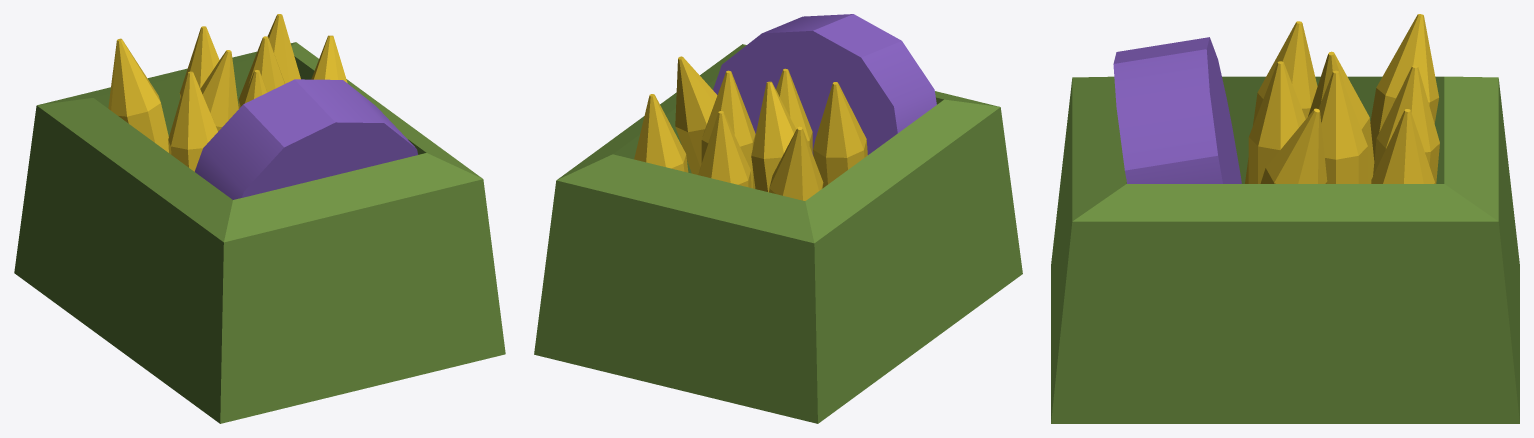
File: AmmoBox.fbx
The picture shows the model from 3 angles, left to right: view 1: azimuth 30°, elevation 25°; view 2: azimuth 150°, elevation 25°; view 3: azimuth 270°, elevation 25°; orthographic projection. The views are drawn at different scales.
Parts seen in each view (by area): view 1: Cube, Cylinder, Cylinder.003; view 2: Cube, Cylinder.003, Cylinder; view 3: Cube, Cylinder.003, Cylinder.
Boxes of the visible parts, box(x1,y1,x2,y2) form: Cube: box(14, 42, 505, 423); Cylinder: box(194, 79, 417, 199); Cylinder.003: box(108, 14, 347, 171); Cube: box(534, 44, 1022, 423); Cylinder.003: box(634, 56, 867, 200); Cylinder: box(713, 14, 936, 156); Cube: box(1051, 76, 1519, 423); Cylinder.003: box(1245, 14, 1439, 183); Cylinder: box(1113, 37, 1241, 183).
Size of the model in its own units: 114 by 99.14 by 143.
